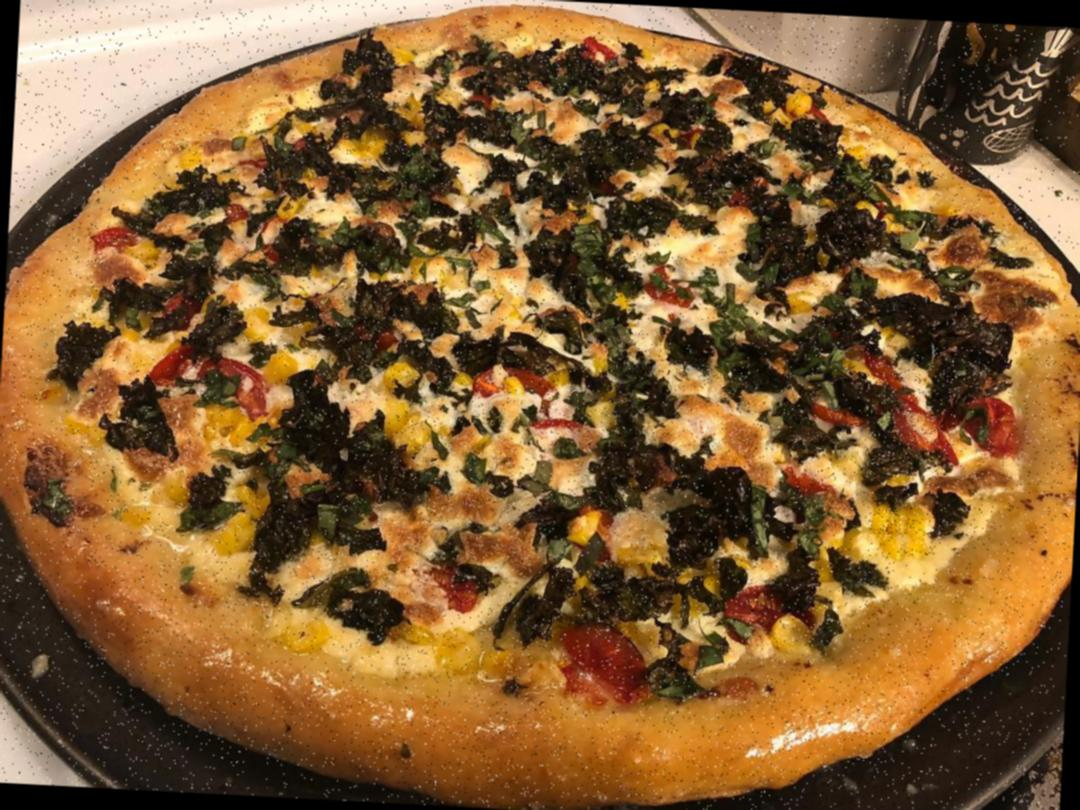Corn: (375, 362, 435, 450), (864, 501, 937, 559), (564, 506, 606, 542), (786, 92, 816, 118)
Peppers: (862, 348, 960, 472), (548, 613, 662, 712), (142, 342, 284, 421), (472, 364, 592, 436), (724, 572, 824, 646), (955, 393, 1021, 453), (642, 262, 700, 314), (88, 220, 146, 258), (579, 32, 625, 69)
Pizza: (0, 0, 1080, 810)
